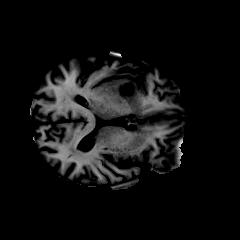glioma: (85, 63, 143, 108)
